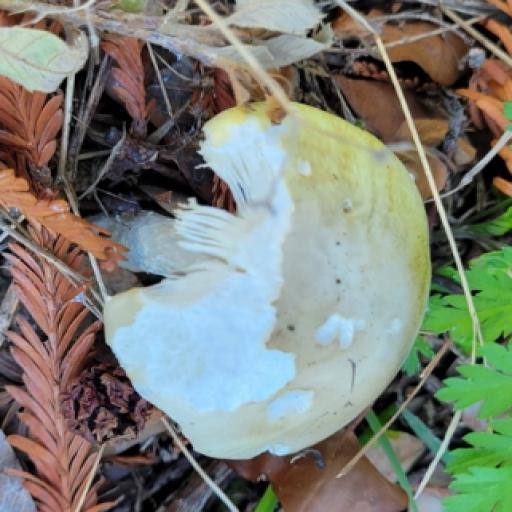mushroom: (43, 54, 491, 500)
